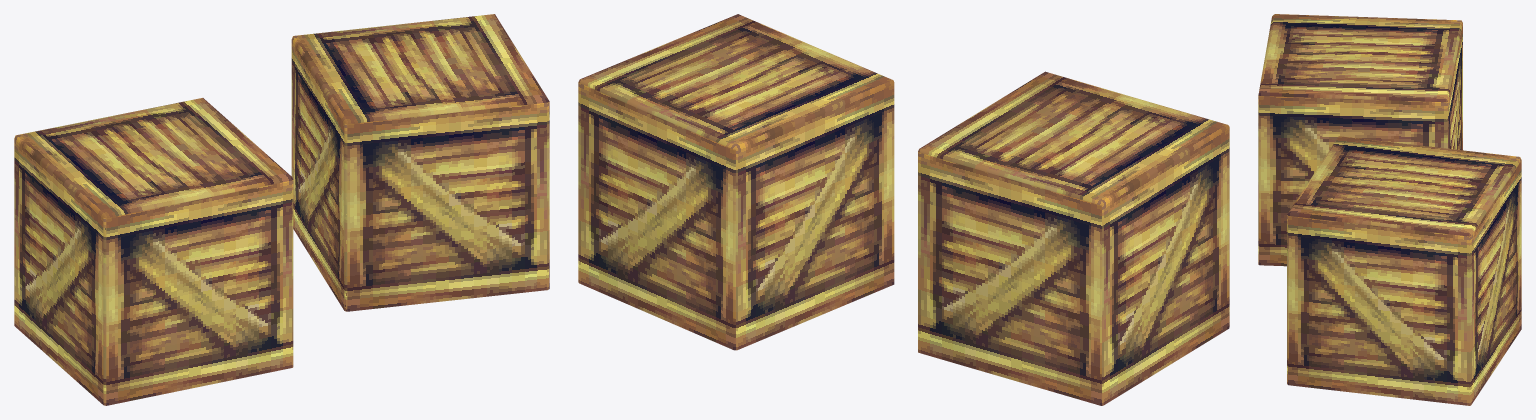
Rendered from wbox48-2.glb.
3 renders of one model, left to right at view 1: azimuth 30°, elevation 25°; view 2: azimuth 150°, elevation 25°; view 3: azimuth 270°, elevation 25°, orthographic. The views are drawn at different scales.
Parts seen in each view (by area): view 1: wbox48_2; view 2: wbox48_2; view 3: wbox48_2.
Part boxes in pixels (x1=…): wbox48_2: x1=14, y1=14, x2=549, y2=405; wbox48_2: x1=578, y1=14, x2=1229, y2=405; wbox48_2: x1=1258, y1=14, x2=1521, y2=405.
Size of the model in its own units: 383 by 139 by 193.
Materials: 2 (2 with a texture image).
